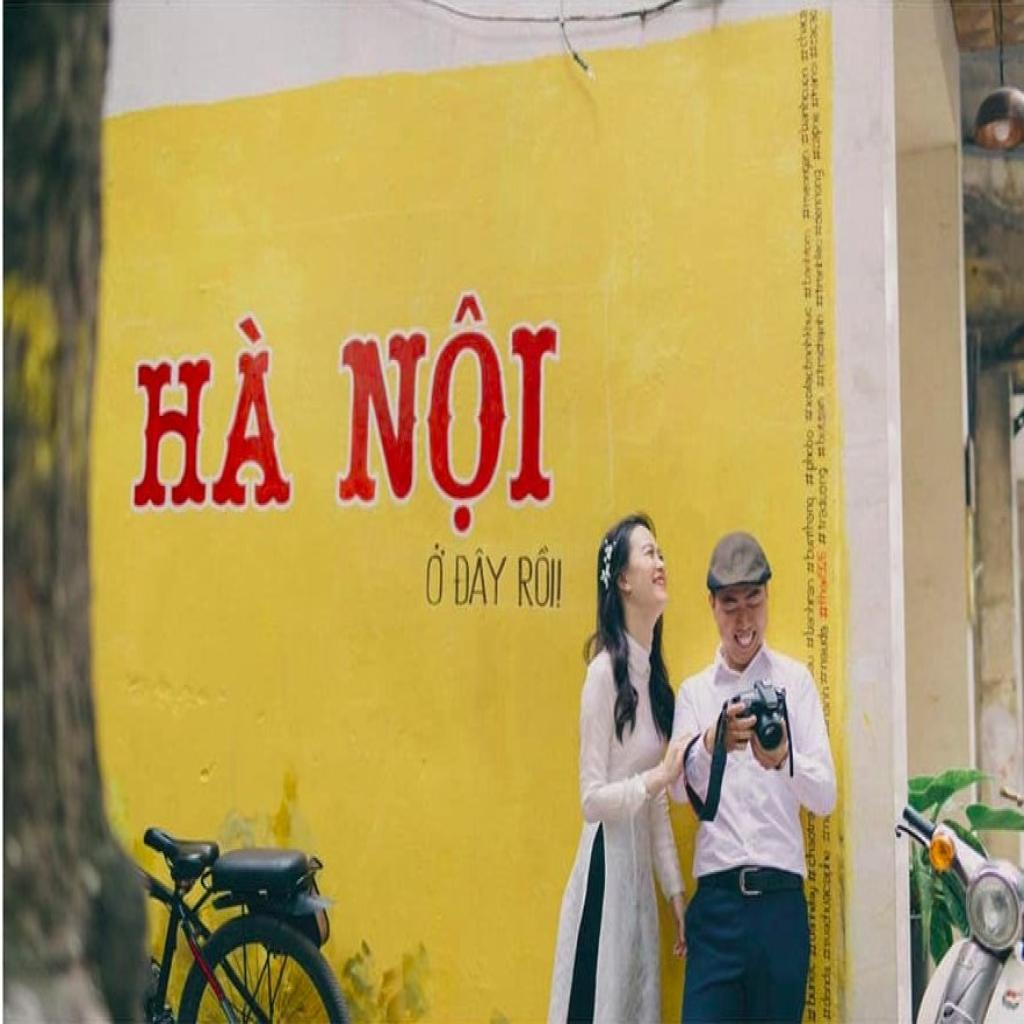text: (330, 287, 566, 538), (123, 300, 303, 514), (450, 542, 516, 617), (422, 540, 448, 613)
